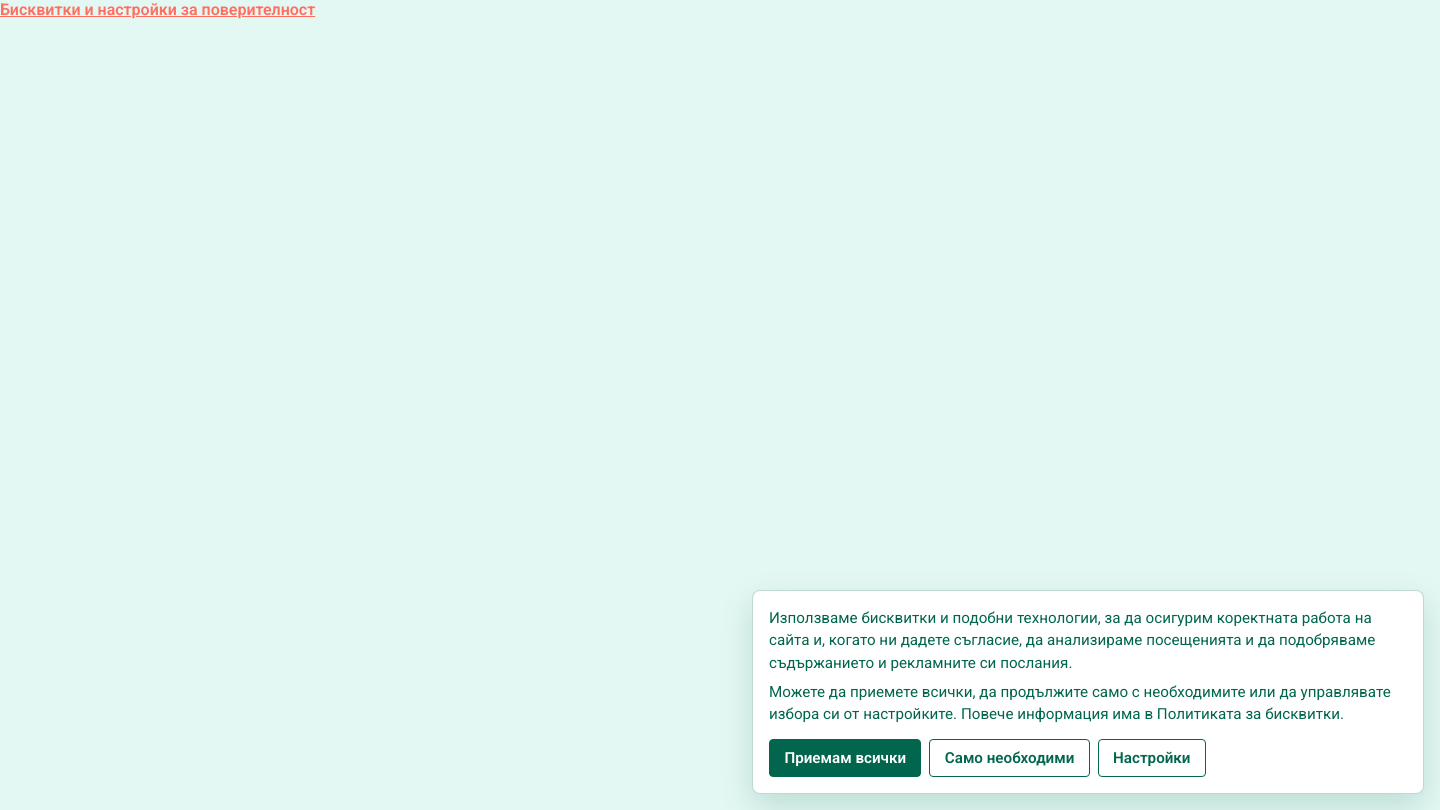
Test: Cookie consent UI › saves custom settings
The image size is (1440, 810).
Click the button "Настройки": (1152, 758) [1098,739,1206,777]
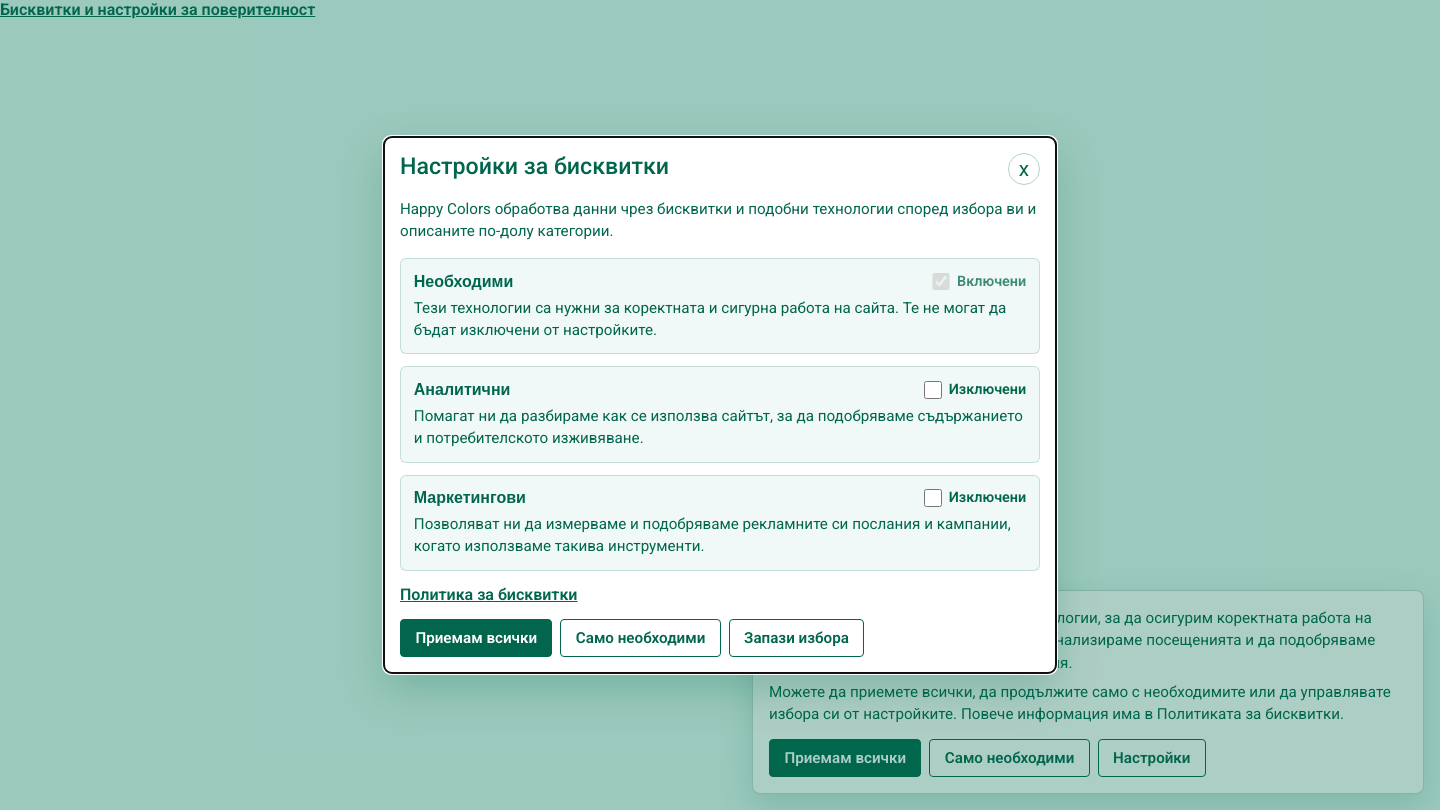
Expected: the dialog "Настройки за бисквитки" is shown, [384,137,1056,673]
Click the checkbox named "Аналитични": (933, 390) [924,381,942,398]
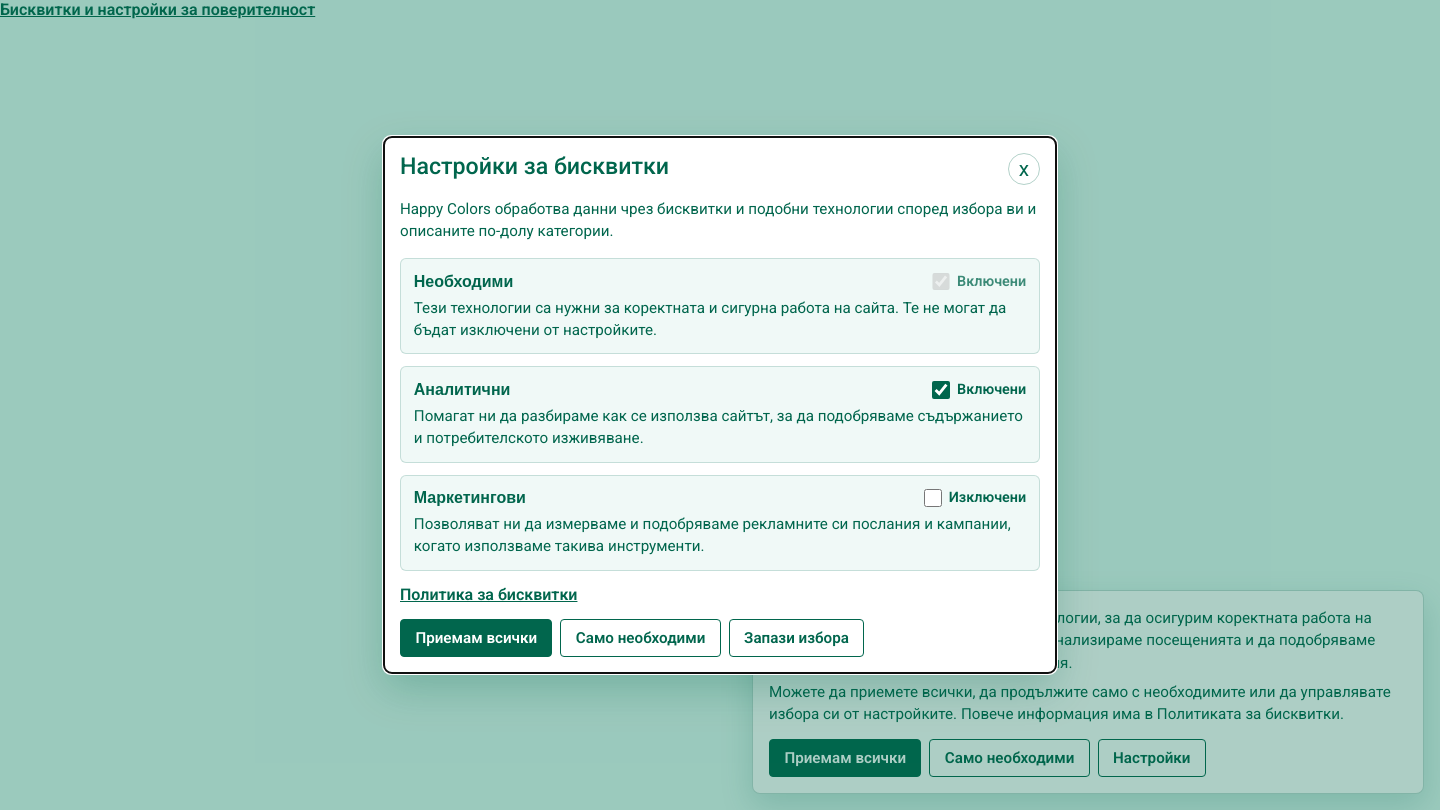
Click the button "Запази избора": (796, 638) [729,619,864,657]
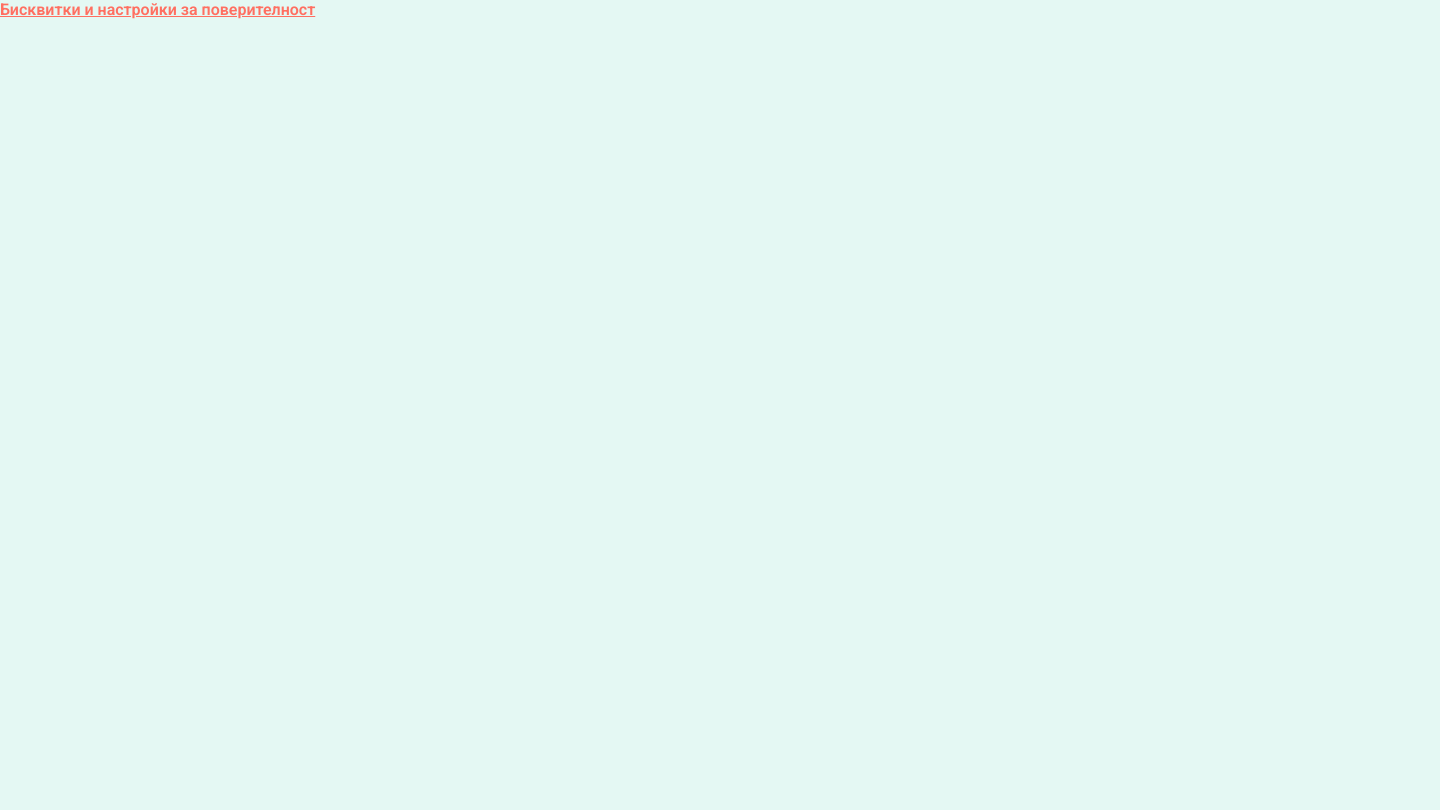
Expected: the heading "Настройки за бисквитки" is gone
